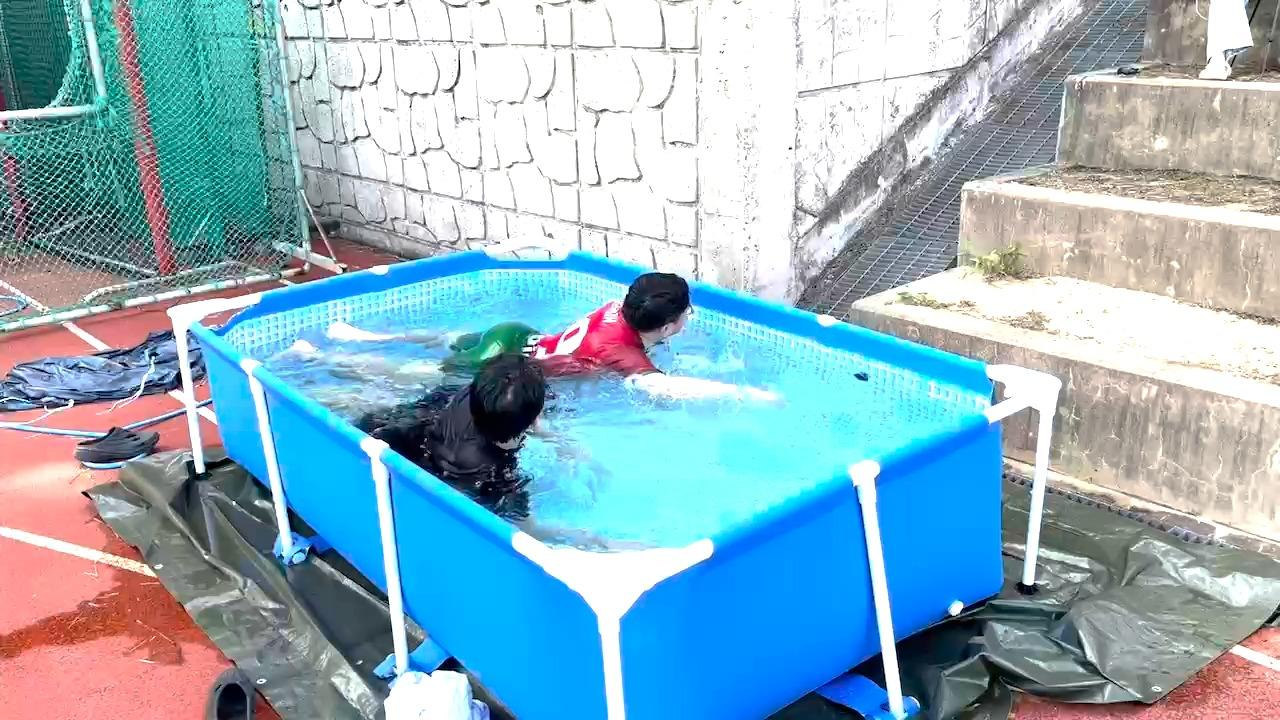Swimming: (247, 335, 606, 522), (375, 287, 784, 403)
